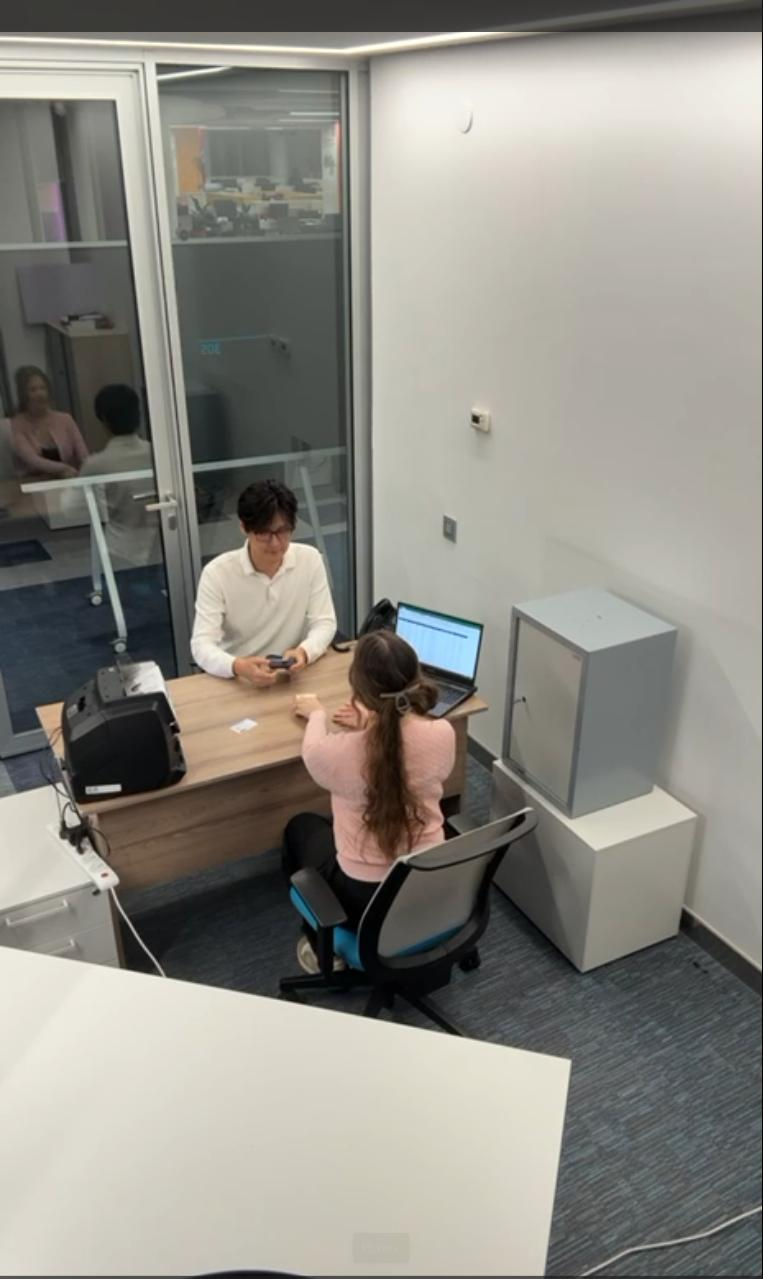cash_stack: (296, 689, 317, 718)
counter: (62, 663, 188, 797)
key_in: (509, 687, 538, 724)
screen_on: (392, 622, 477, 672)
